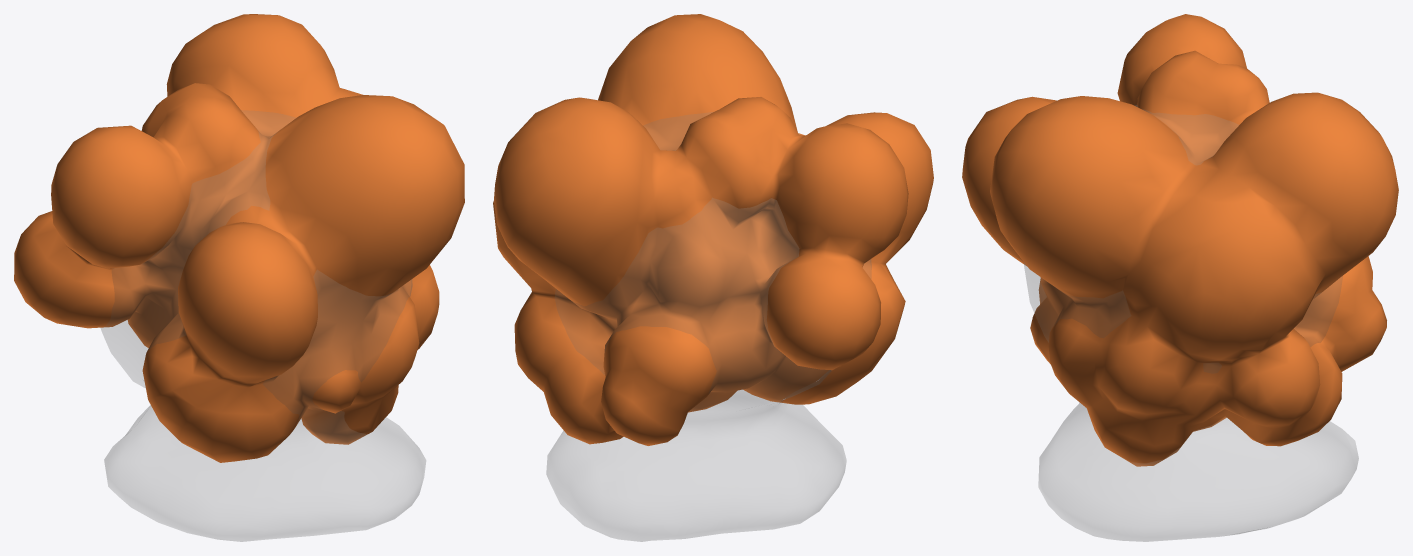
File: obj_resource_refinednimbolium.fbx
3 views of the same model, side by side, from view 1: azimuth 30°, elevation 25°; view 2: azimuth 150°, elevation 25°; view 3: azimuth 270°, elevation 25° (orthographic).
Parts seen in each view (by area): view 1: Sphere.010, Sphere.009; view 2: Sphere.010, Sphere.009; view 3: Sphere.010, Sphere.009.
Part boxes in pixels (x1=…): Sphere.010: x1=14, y1=14, x2=464, y2=462; Sphere.009: x1=101, y1=111, x2=425, y2=541; Sphere.010: x1=493, y1=14, x2=933, y2=445; Sphere.009: x1=546, y1=112, x2=871, y2=541; Sphere.010: x1=962, y1=14, x2=1398, y2=466; Sphere.009: x1=1024, y1=105, x2=1358, y2=541.
Size of the model in its own units: 3.27 by 3.44 by 3.26.
